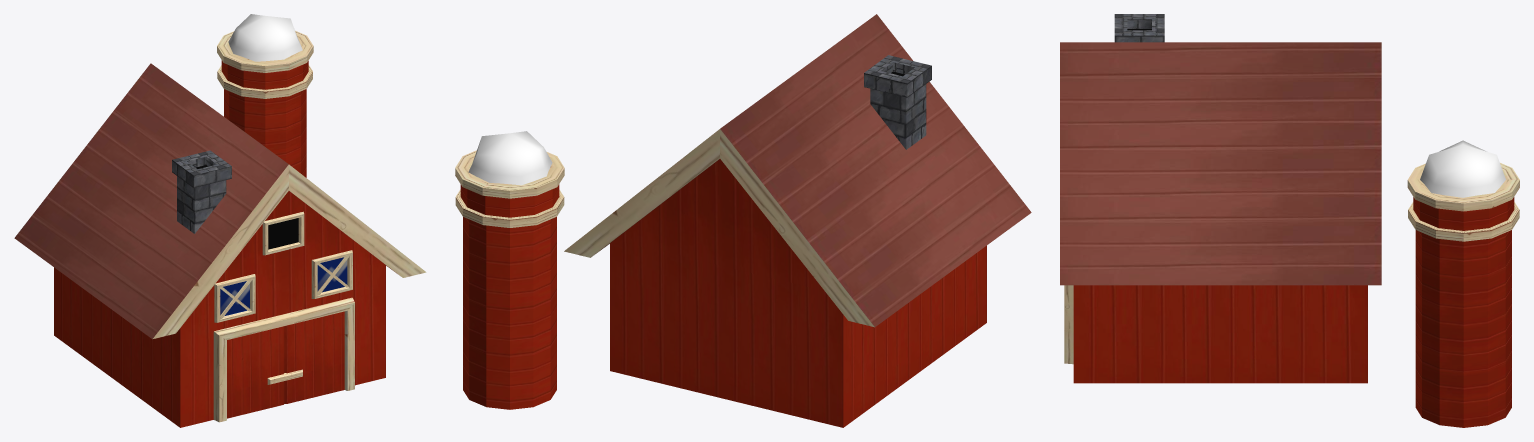
Rendered from ambar1.fbx.
3 renders of one model, left to right at view 1: azimuth 30°, elevation 25°; view 2: azimuth 150°, elevation 25°; view 3: azimuth 270°, elevation 25°, orthographic. The views are drawn at different scales.
Parts seen in each view (by area): view 1: Ambar_01; view 2: Ambar_01; view 3: Ambar_01.
Part boxes in pixels (<box>): Ambar_01: <box>14,14,426,427</box>; Ambar_01: <box>455,14,1031,427</box>; Ambar_01: <box>1060,14,1519,427</box>.
Bounding box in the file's own units: 6185 × 4376 × 6452.
1 material, 1 textured.
